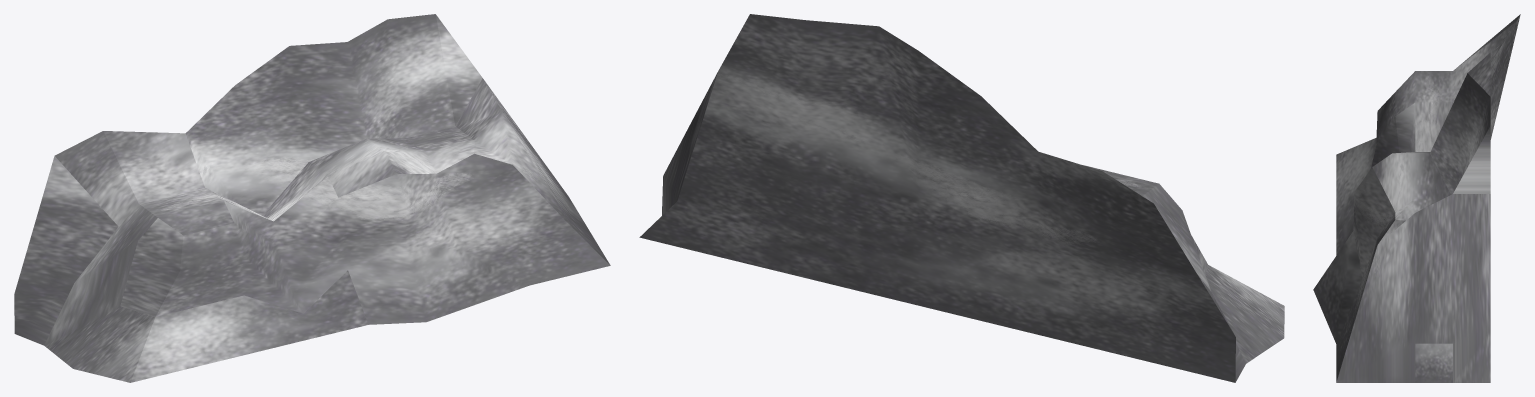
The model's file is Mountain6 - Level 1.FBX.
The picture shows the model from 3 angles, left to right: view 1: azimuth 30°, elevation 25°; view 2: azimuth 150°, elevation 25°; view 3: azimuth 270°, elevation 25°; orthographic projection. The views are drawn at different scales.
Visible parts, largest first — view 1: Mountain 6; view 2: Mountain 6; view 3: Mountain 6.
Part boxes in pixels (<box>): Mountain 6: <box>14,14,610,382</box>; Mountain 6: <box>639,14,1284,382</box>; Mountain 6: <box>1313,14,1520,382</box>.
Bounding box in the file's own units: 286 × 118 × 102.
1 material, 1 textured.
